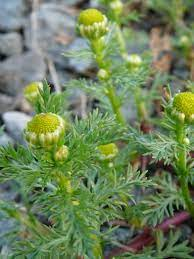pineple: (25, 154, 112, 231)
